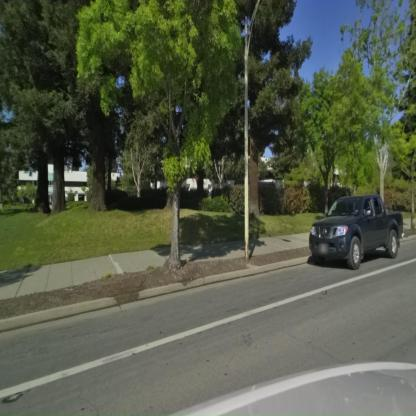car: (307, 194, 405, 271)
